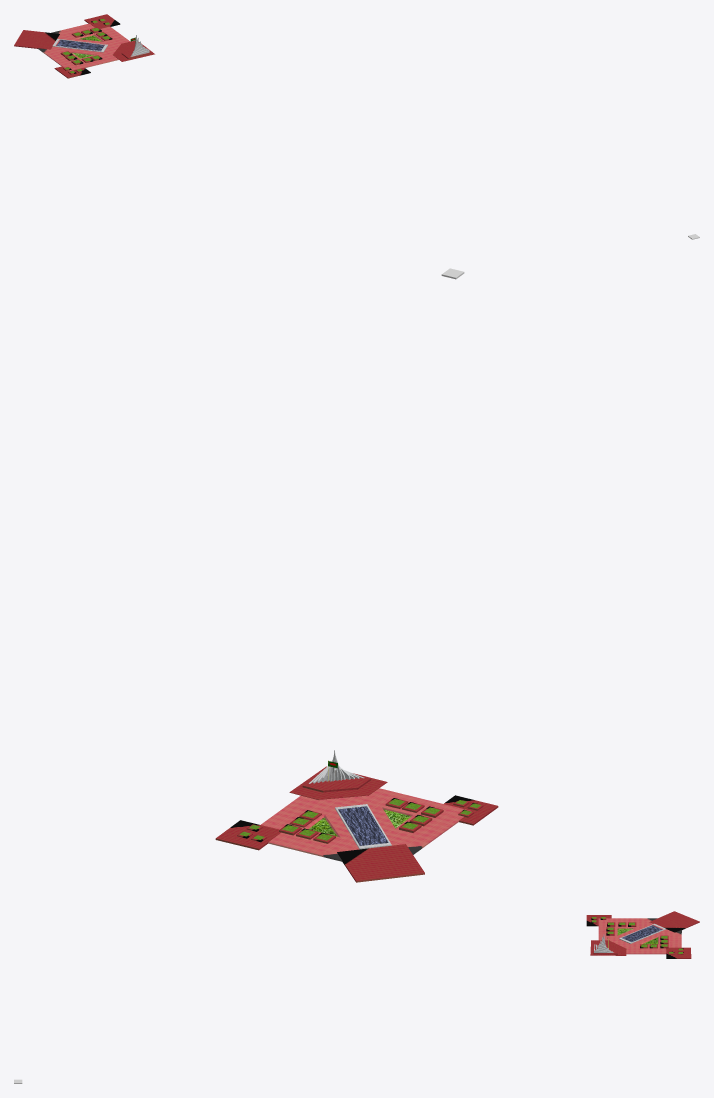
File: smritisoudho.glb
3 renders of one model, top to bottom at view 1: azimuth 30°, elevation 25°; view 2: azimuth 150°, elevation 25°; view 3: azimuth 270°, elevation 25°, orthographic. The views are drawn at different scales.
Visible parts, largest first — view 1: Cube.016, Cube.026; view 2: Cube.016, Cube.026, Plane.001, Cube.019, Cube.015; view 3: Cube.016, Cube.026, Plane.001.
Boxes of the visible parts, bbox=[...] form: Cube.016: bbox=[38, 23, 129, 71]; Cube.026: bbox=[14, 30, 59, 49]; Cube.016: bbox=[261, 788, 471, 861]; Cube.026: bbox=[337, 844, 424, 882]; Plane.001: bbox=[338, 806, 388, 845]; Cube.019: bbox=[215, 820, 280, 850]; Cube.015: bbox=[289, 766, 387, 799]; Cube.016: bbox=[598, 918, 681, 954]; Cube.026: bbox=[649, 911, 699, 932]; Plane.001: bbox=[622, 925, 662, 942].
Size of the model in its own units: 882 by 89.92 by 1649.
76 materials, 56 textured.
